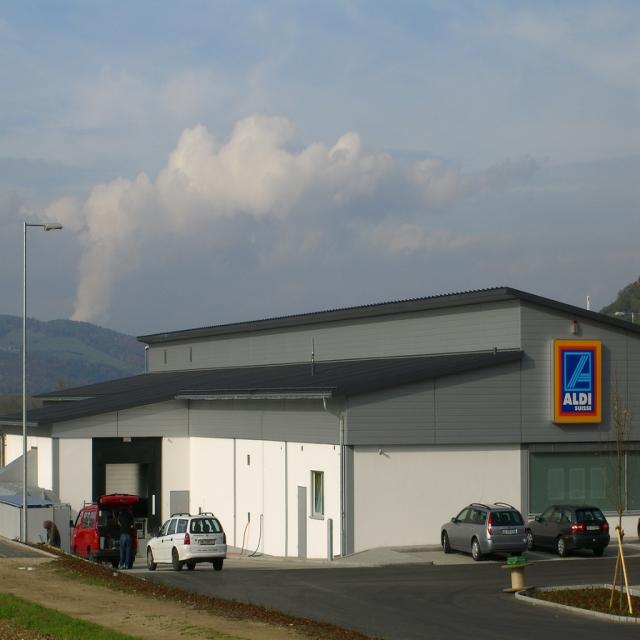aldi: (556, 341, 603, 423)
